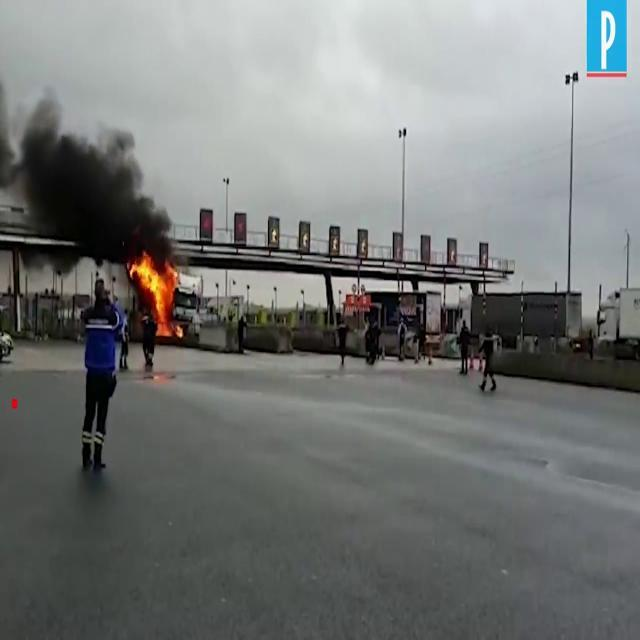Fire: (129, 250, 181, 336)
Smoke: (0, 36, 172, 262)
